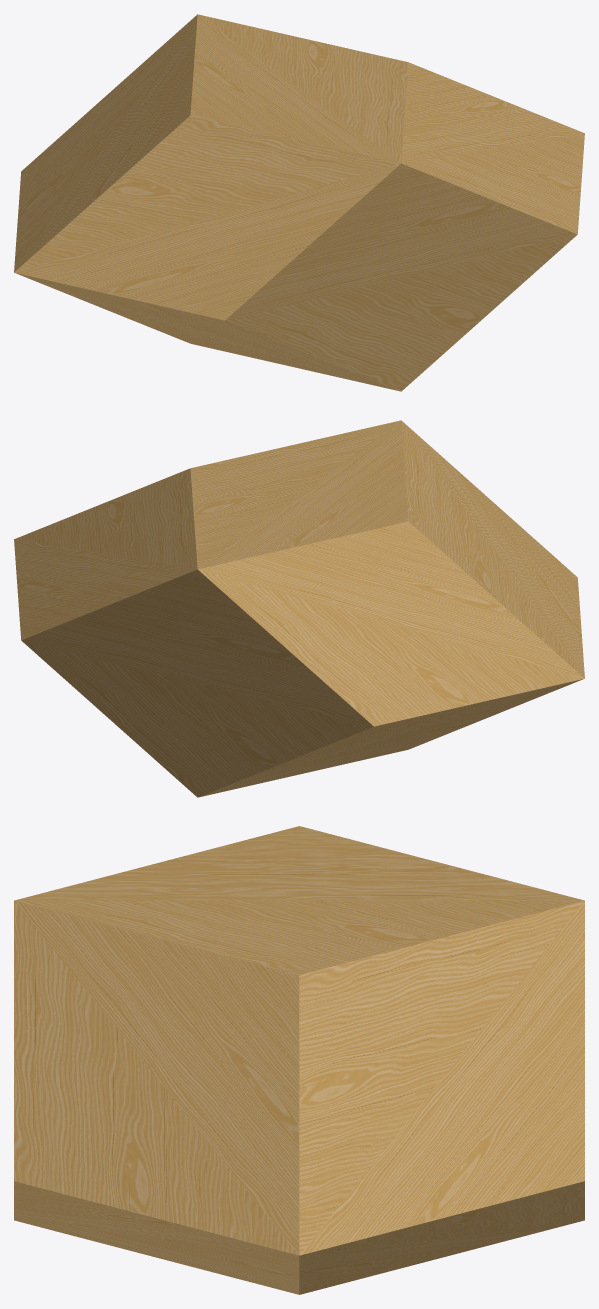
Rendered from BilinskiDodecahedron.glb.
3 views of the same model, one above another, from view 1: azimuth 30°, elevation 25°; view 2: azimuth 150°, elevation 25°; view 3: azimuth 270°, elevation 25° (orthographic). The views are drawn at different scales.
Parts seen in each view (by area): view 1: 000_model; view 2: 000_model; view 3: 000_model.
Boxes of the visible parts, left/top/right/bottom form: 000_model: left=14, top=14, right=584, bottom=391; 000_model: left=14, top=420, right=584, bottom=797; 000_model: left=14, top=826, right=584, bottom=1294.
Bounding box in the file's own units: 8.26 × 3.15 × 5.1.
Materials: 1 (1 with a texture image).
